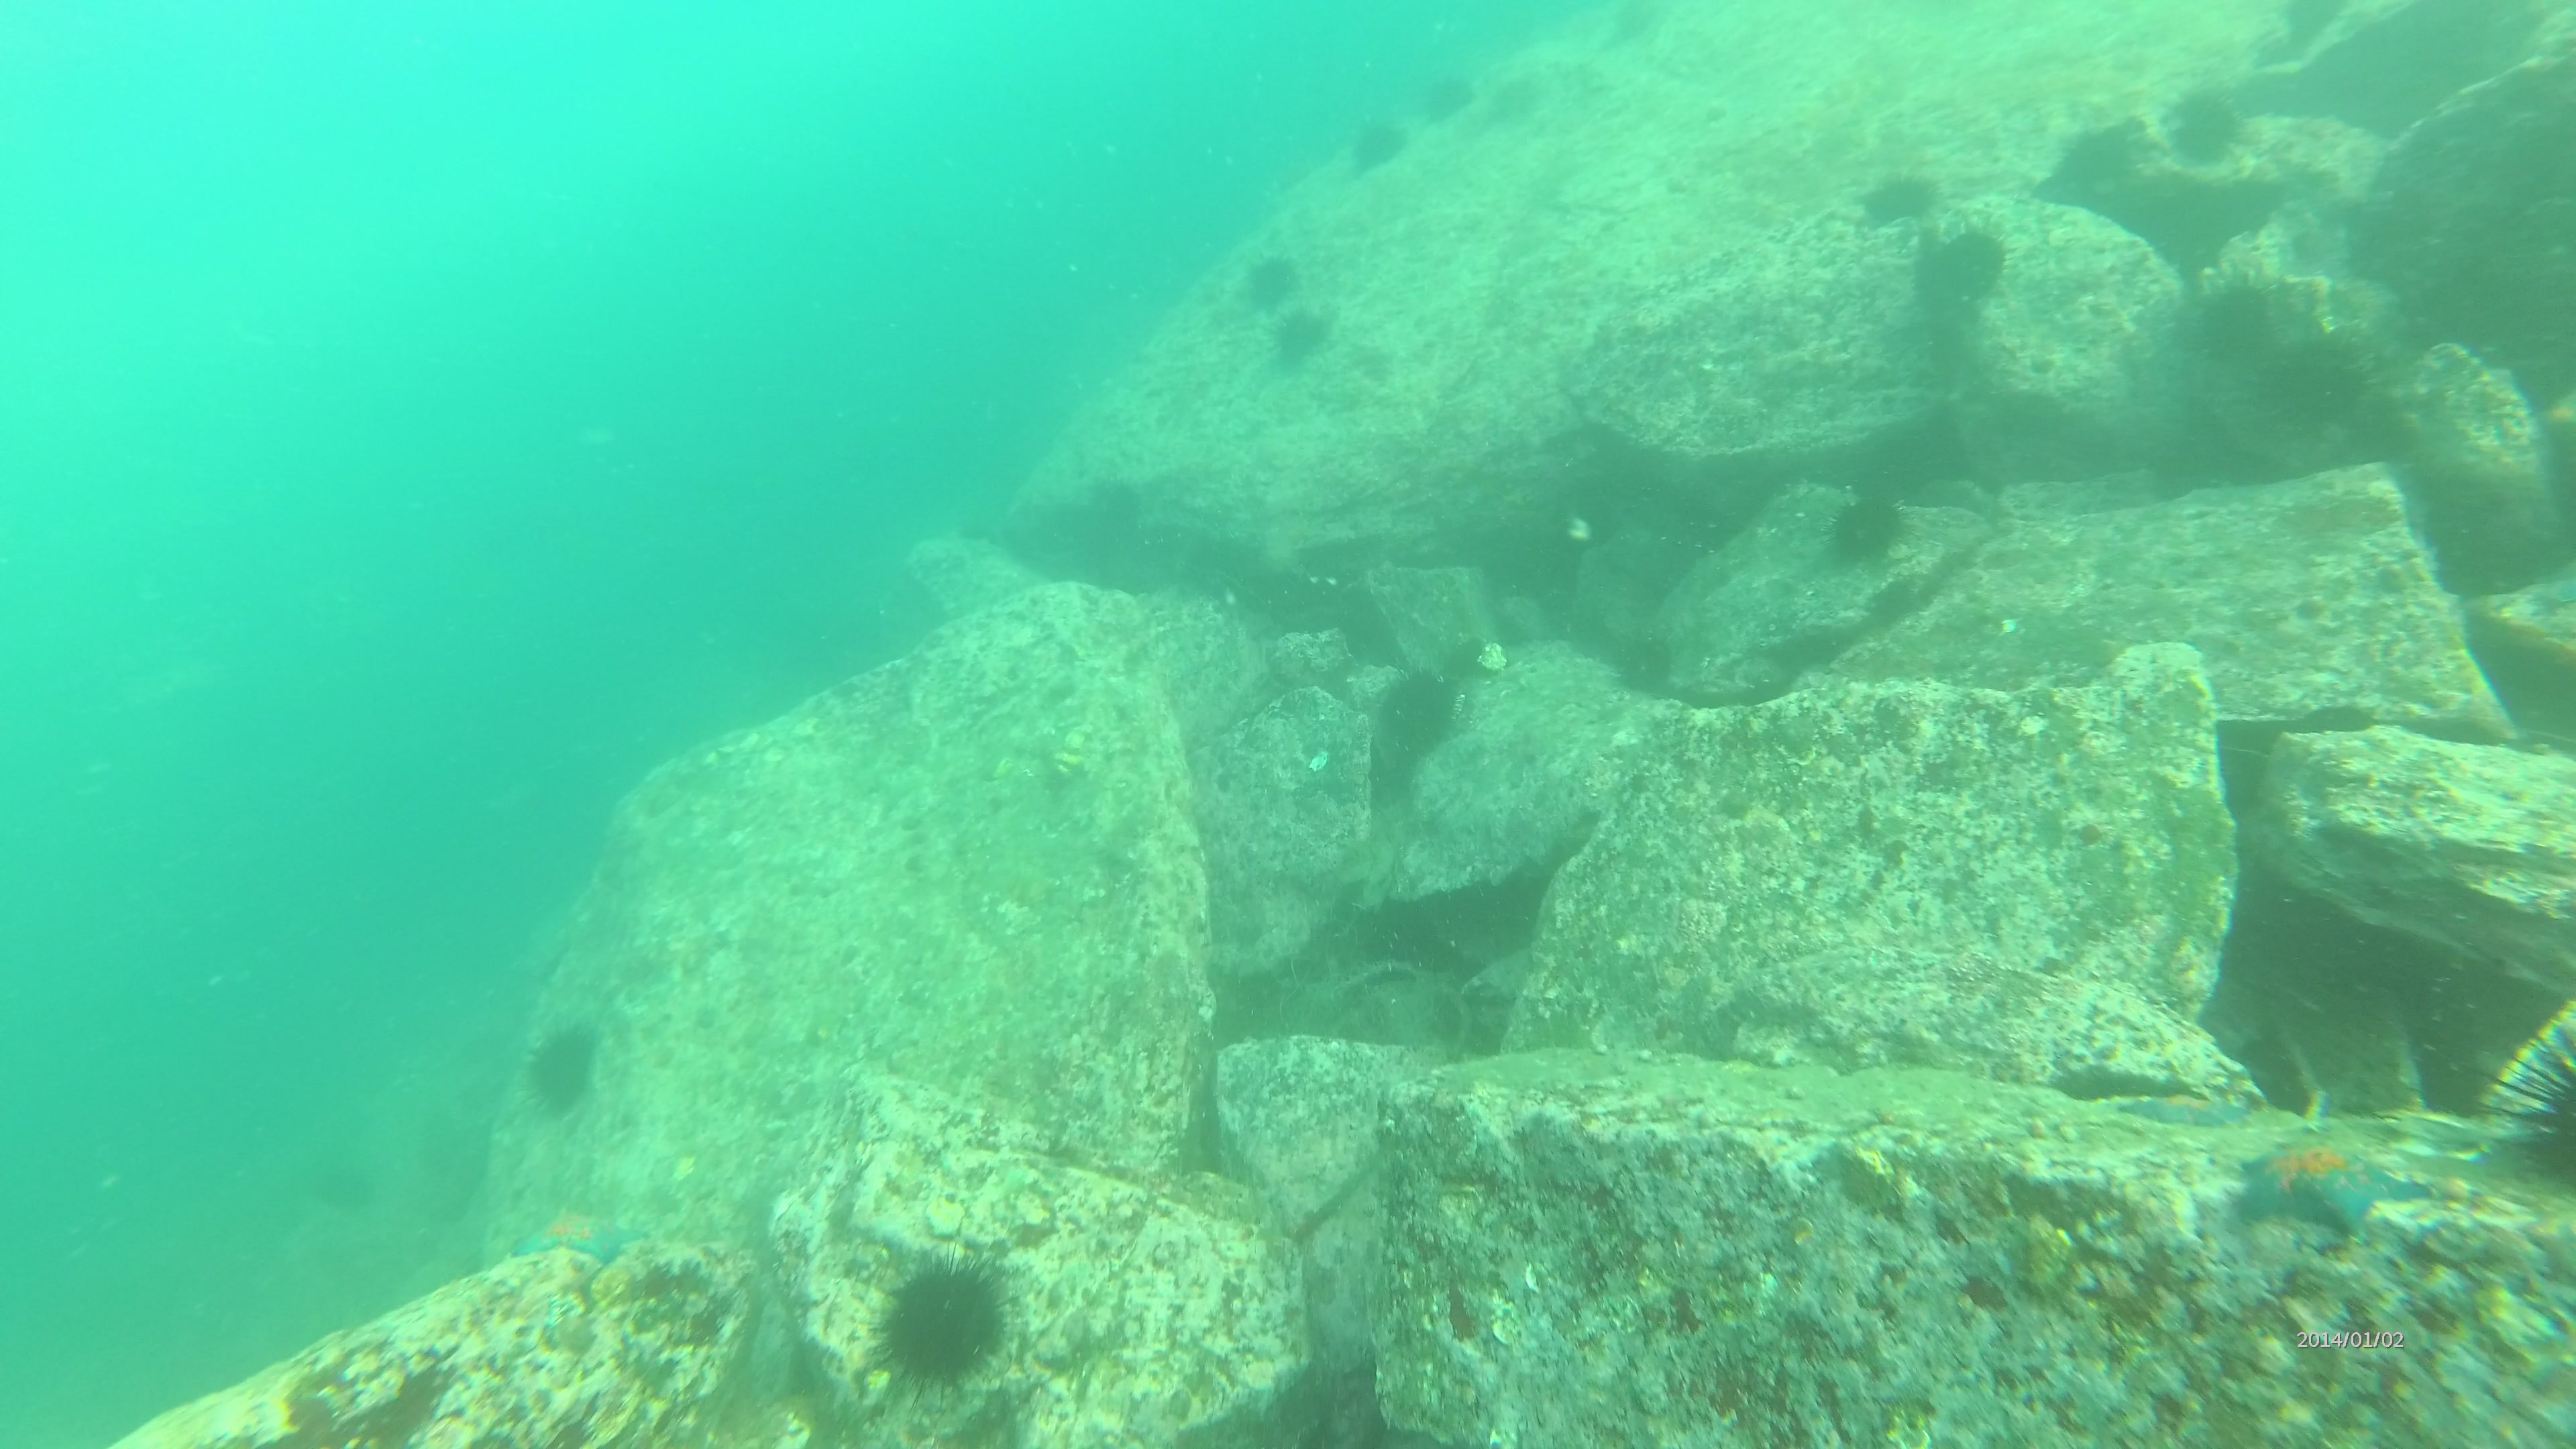echinus: (878, 1240, 1017, 1396), (2484, 1014, 2576, 1205), (2242, 334, 2385, 433), (1918, 223, 2008, 304), (529, 1030, 602, 1109), (1819, 497, 1898, 563), (2158, 92, 2240, 152), (1270, 310, 1339, 366), (1854, 177, 1930, 226), (1348, 122, 1405, 177), (1235, 255, 1292, 303), (1415, 69, 1463, 110)
starfish: (2245, 1139, 2424, 1240), (515, 1205, 640, 1270), (2118, 1077, 2242, 1136)
